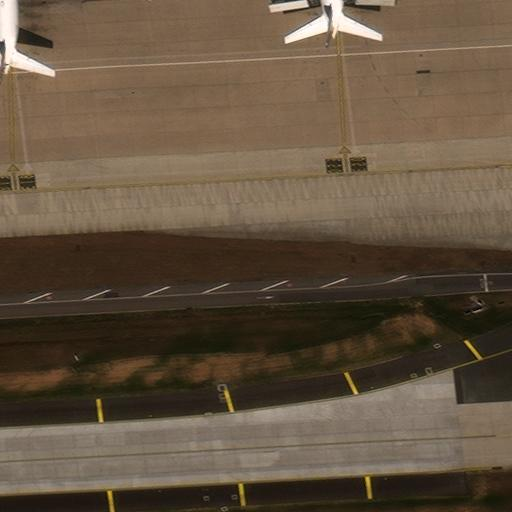Large Civil Transport: (0, 0, 135, 83), (238, 0, 408, 48)
